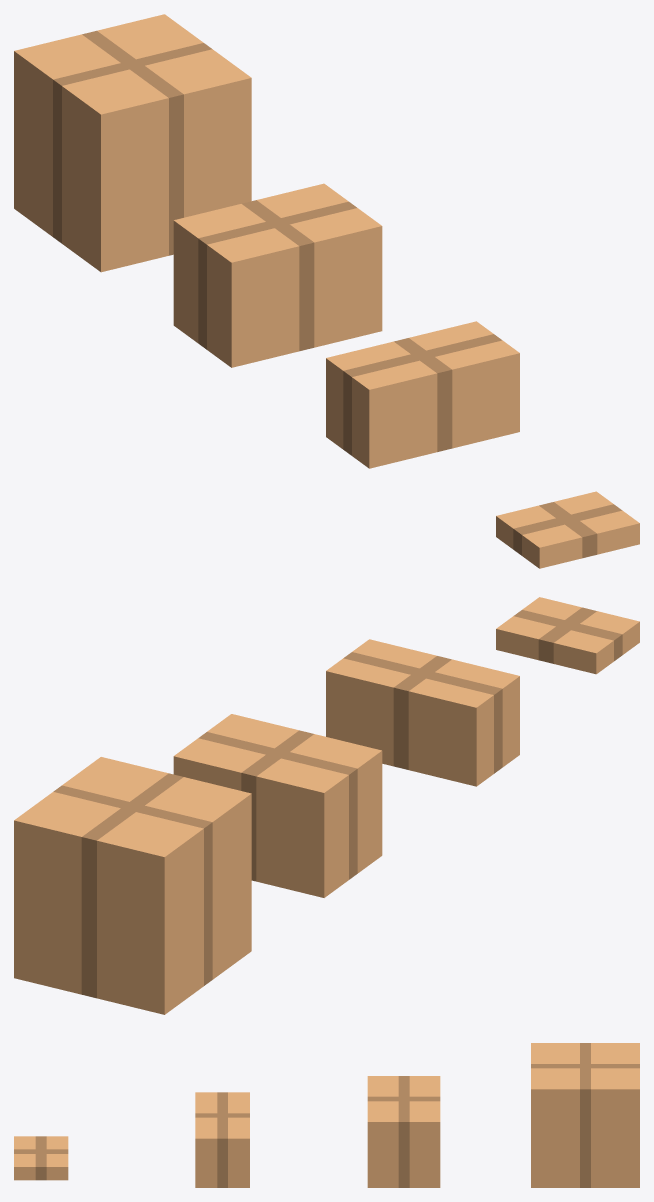
File: paper  boxes.fbx
3 views of the same model, one above another, from view 1: azimuth 30°, elevation 25°; view 2: azimuth 150°, elevation 25°; view 3: azimuth 270°, elevation 25° (orthographic). The views are drawn at different scales.
Parts seen in each view (by area): view 1: 600×600×600, 600×400×400, 600×300×300, 400×300×80; view 2: 600×600×600, 600×400×400, 600×300×300, 400×300×80; view 3: 600×600×600, 600×400×400, 600×300×300, 400×300×80.
Boxes of the visible parts, bbox=[...] form: 600×600×600: bbox=[14, 14, 251, 272]; 600×400×400: bbox=[173, 183, 382, 367]; 600×300×300: bbox=[326, 321, 519, 468]; 400×300×80: bbox=[496, 491, 639, 568]; 600×600×600: bbox=[14, 757, 251, 1014]; 600×400×400: bbox=[173, 714, 382, 897]; 600×300×300: bbox=[326, 639, 519, 786]; 400×300×80: bbox=[496, 597, 639, 674]; 600×600×600: bbox=[531, 1043, 639, 1187]; 600×400×400: bbox=[367, 1076, 440, 1187]; 600×300×300: bbox=[195, 1092, 249, 1187]; 400×300×80: bbox=[14, 1136, 68, 1180].
Size of the model in its own units: 60 by 60 by 345.
